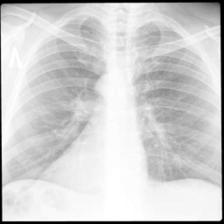tuberculosis: (3, 11, 221, 207)
